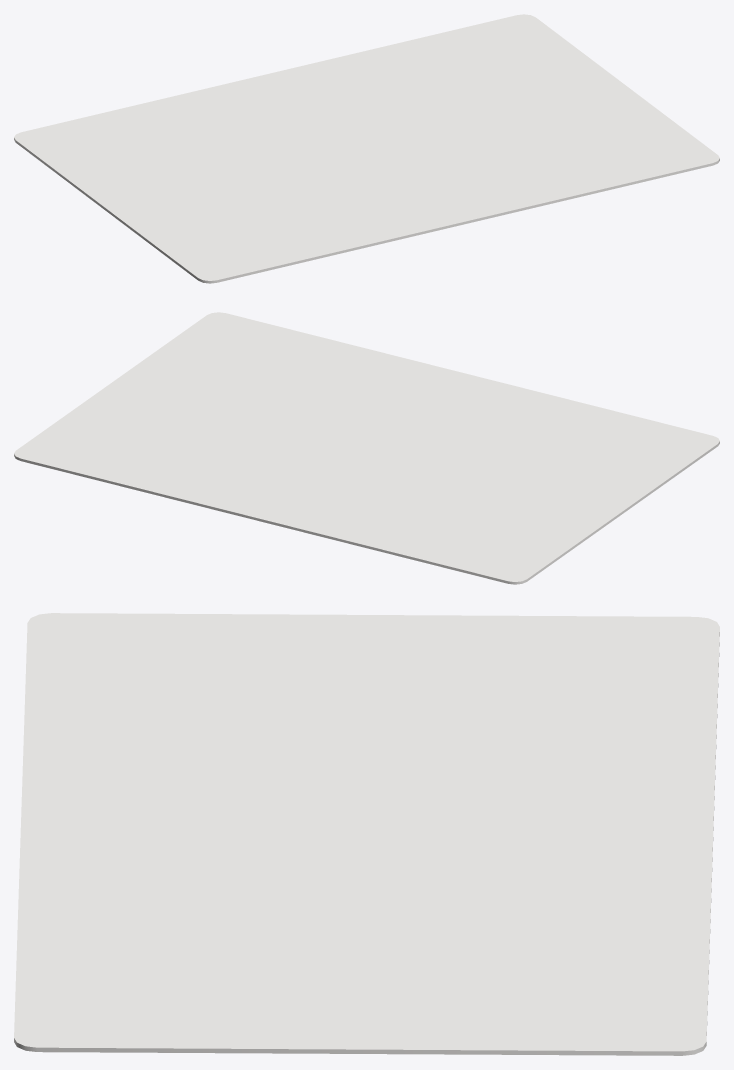
The model's file is Card.fbx.
The picture shows the model from 3 angles, top to bottom: view 1: azimuth 30°, elevation 25°; view 2: azimuth 150°, elevation 25°; view 3: azimuth 270°, elevation 25°; orthographic projection. The views are drawn at different scales.
Visible parts, largest first — view 1: Card; view 2: Card; view 3: Card.
Part boxes in pixels (left/top/right/bottom): Card: left=14, top=14, right=719, bottom=283; Card: left=14, top=312, right=719, bottom=584; Card: left=14, top=613, right=719, bottom=1055.
Size of the model in its own units: 11.7 by 0.0551 by 7.96.
